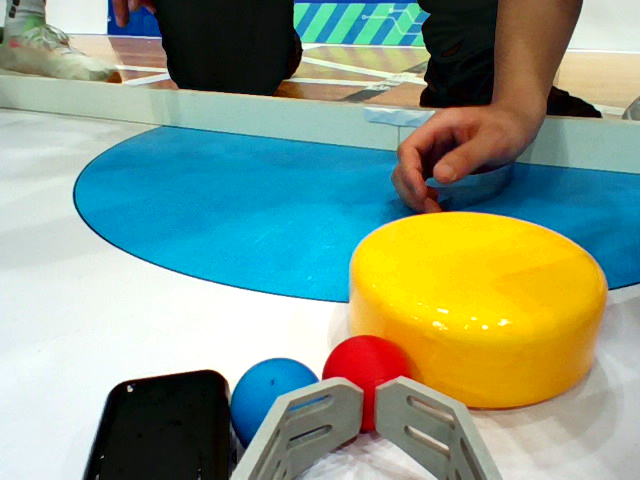black: (84, 362, 245, 480)
blue: (228, 352, 330, 461)
red: (320, 329, 421, 423)
yellow: (340, 214, 620, 418)
